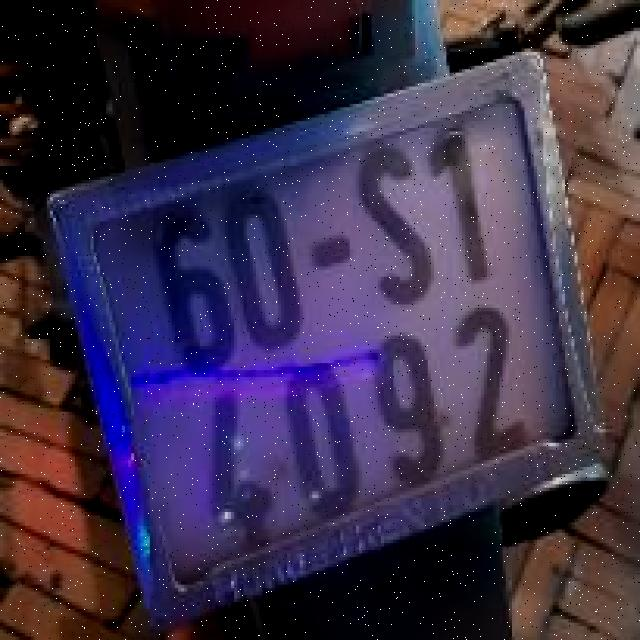0: (217, 162, 314, 360), (272, 353, 359, 526)
1: (426, 102, 501, 296)
2: (452, 298, 550, 457)
4: (197, 378, 281, 566)
6: (126, 192, 236, 389)
9: (358, 324, 454, 504)
S: (351, 135, 429, 318)
